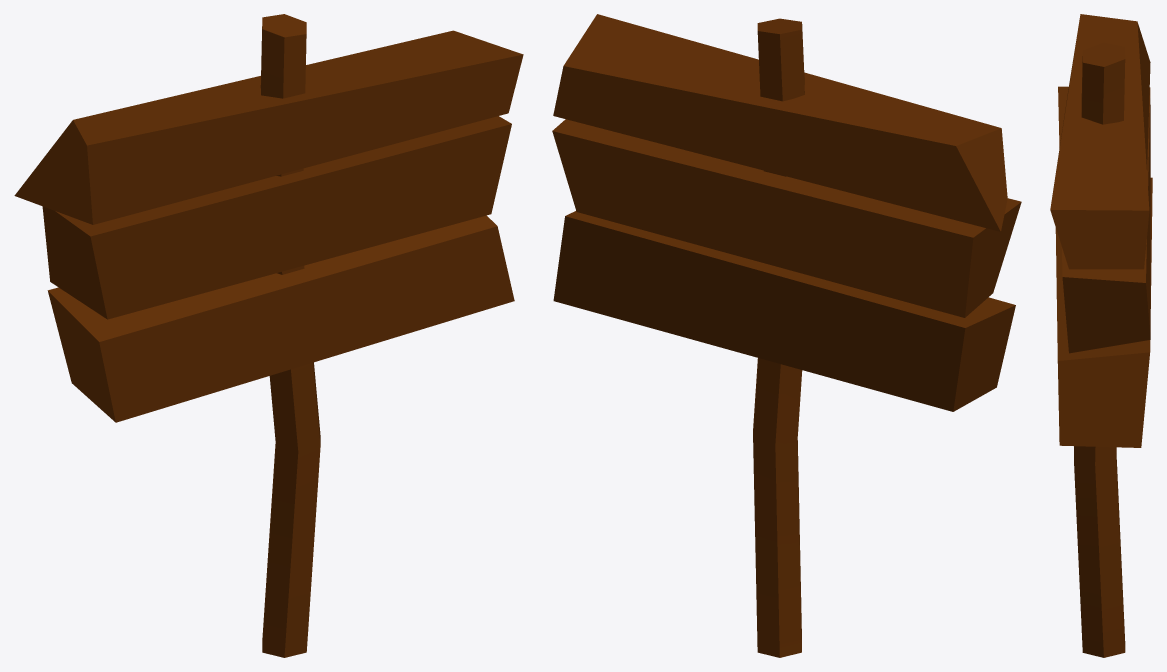
File: sign.fbx
3 views of the same model, side by side, from view 1: azimuth 30°, elevation 25°; view 2: azimuth 150°, elevation 25°; view 3: azimuth 270°, elevation 25° (orthographic). The views are drawn at different scales.
Visible parts, largest first — view 1: pCube65, pCube67, pCube66, pCylinder52; view 2: pCube65, pCube67, pCube66, pCylinder52; view 3: pCube65, pCylinder52, pCube67, pCube66.
Boxes of the visible parts, bbox=[...] form: pCube65: bbox=[14, 30, 523, 224]; pCube67: bbox=[47, 215, 514, 422]; pCube66: bbox=[42, 116, 511, 319]; pCylinder52: bbox=[260, 14, 320, 657]; pCube65: bbox=[553, 14, 1007, 231]; pCube67: bbox=[553, 211, 1015, 411]; pCube66: bbox=[552, 119, 1021, 317]; pCylinder52: bbox=[753, 18, 804, 657]; pCube65: bbox=[1050, 14, 1150, 269]; pCylinder52: bbox=[1074, 42, 1125, 657]; pCube67: bbox=[1055, 177, 1152, 447]; pCube66: bbox=[1058, 86, 1150, 353].
Bounding box in the file's own units: 1.54 × 2.01 × 0.3132.
